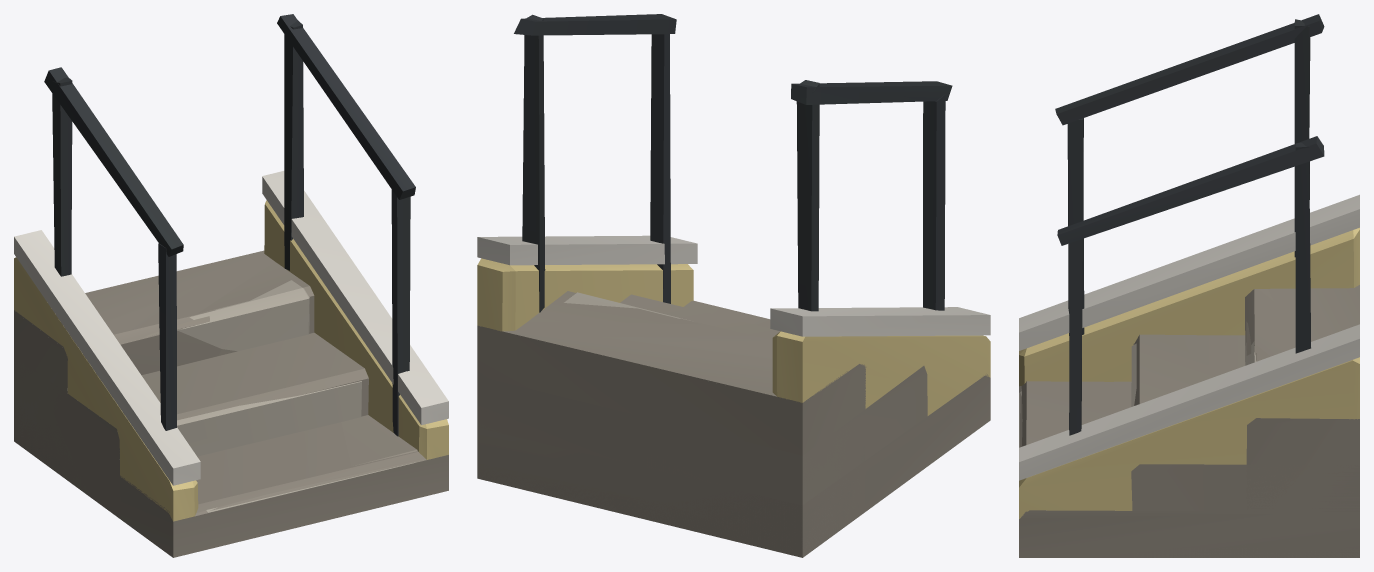
File: stair.glb
3 renders of one model, left to right at view 1: azimuth 30°, elevation 25°; view 2: azimuth 150°, elevation 25°; view 3: azimuth 270°, elevation 25°, orthographic. The views are drawn at different scales.
Parts seen in each view (by area): view 1: stair.v2.mesh, stair.v1.mesh, stair.v0.mesh; view 2: stair.v2.mesh, stair.v1.mesh, stair.v0.mesh; view 3: stair.v2.mesh, stair.v1.mesh, stair.v0.mesh.
Boxes of the visible parts, <box> form: stair.v2.mesh: <box>14,14,448,557</box>; stair.v1.mesh: <box>14,171,448,521</box>; stair.v0.mesh: <box>14,250,425,515</box>; stair.v2.mesh: <box>477,14,990,557</box>; stair.v1.mesh: <box>477,235,990,415</box>; stair.v0.mesh: <box>478,300,988,408</box>; stair.v2.mesh: <box>1019,14,1359,557</box>; stair.v1.mesh: <box>1019,194,1359,518</box>; stair.v0.mesh: <box>1021,285,1359,517</box>.
Bounding box in the file's own units: 1 × 1.32 × 1.
